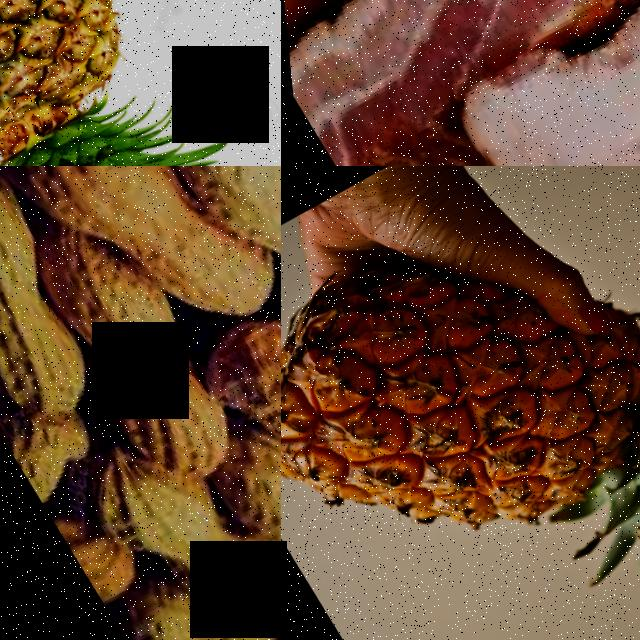peanuts: (22, 224, 247, 503), (0, 166, 105, 433), (184, 288, 281, 499), (170, 166, 281, 345)
pineapple: (281, 166, 640, 640), (0, 0, 214, 166)
pork belly: (281, 0, 640, 166), (422, 0, 640, 166)
